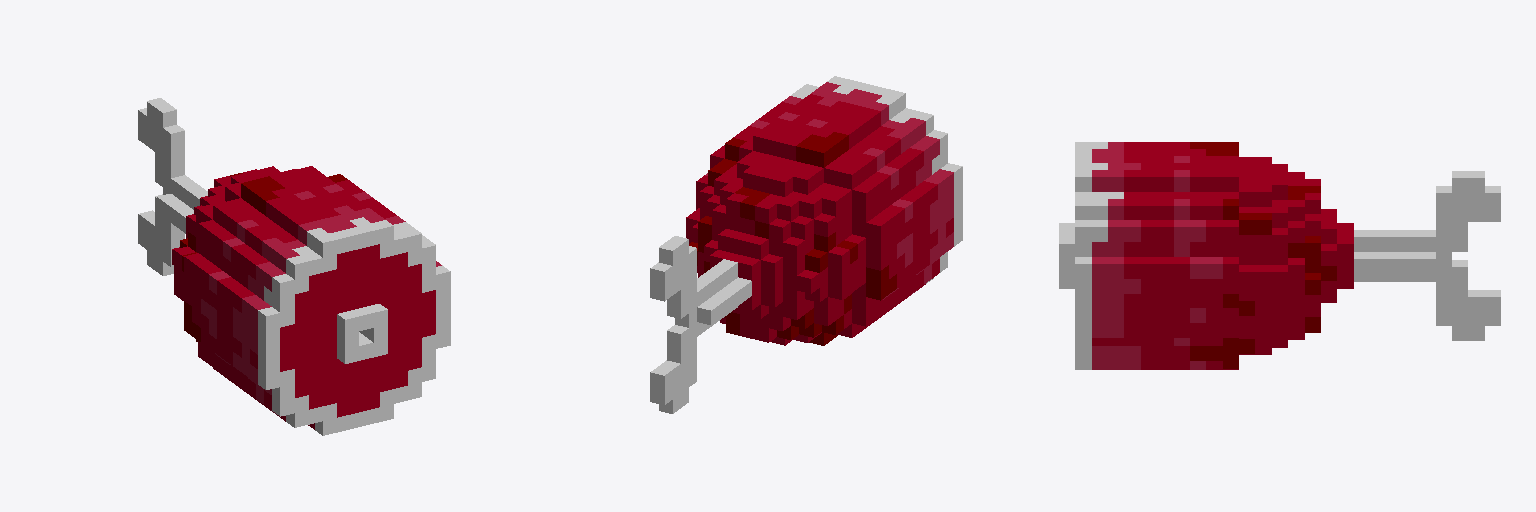
The picture shows the model from 3 angles: view 1: azimuth 30°, elevation 25°; view 2: azimuth 150°, elevation 25°; view 3: azimuth 270°, elevation 25°; orthographic projection.
Parts seen in each view (by area): view 1: object 1; view 2: object 1; view 3: object 1.
Part boxes in pixels (bbox=[...]): object 1: bbox=[138, 98, 450, 435]; object 1: bbox=[650, 76, 962, 413]; object 1: bbox=[1059, 142, 1500, 369].
Bounding box in the file's own units: 1.3 × 1.3 × 2.7.
Materials: 1 (1 with a texture image).